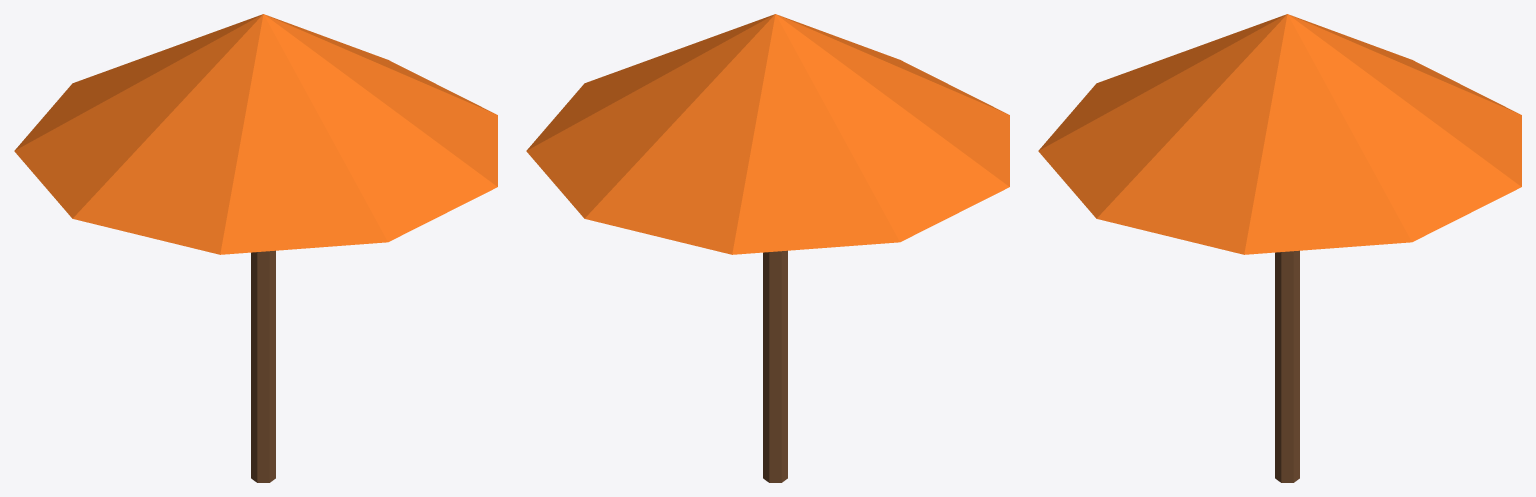
File: sunscreen-tropic.glb
The picture shows the model from 3 angles, left to right: view 1: azimuth 30°, elevation 25°; view 2: azimuth 150°, elevation 25°; view 3: azimuth 270°, elevation 25°; orthographic projection.
Parts seen in each view (by area): view 1: sunscreen-tropic; view 2: sunscreen-tropic; view 3: sunscreen-tropic.
Part boxes in pixels (x1,y1,x2,y2): sunscreen-tropic: (14,14,497,482); sunscreen-tropic: (526,14,1009,482); sunscreen-tropic: (1038,14,1521,482).
Size of the model in its own units: 2.32 by 2.42 by 2.28.
1 material, 1 textured.
